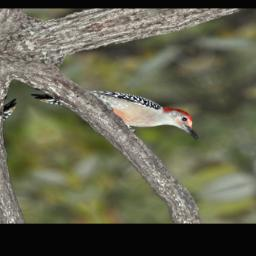Woodpecker: (29, 60, 205, 173)
